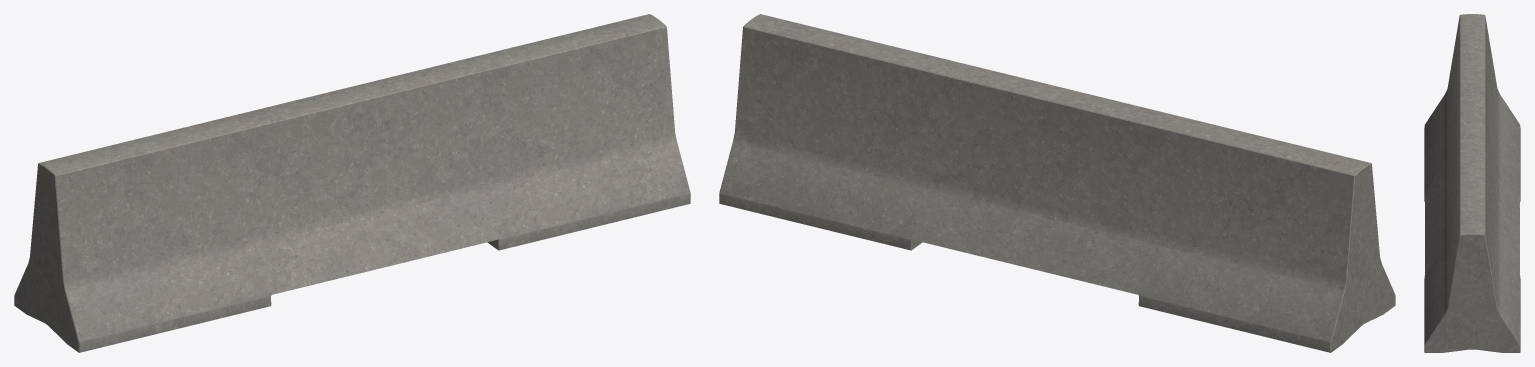
The model's file is Barrier_04.fbx.
3 views of the same model, side by side, from view 1: azimuth 30°, elevation 25°; view 2: azimuth 150°, elevation 25°; view 3: azimuth 270°, elevation 25° (orthographic). The views are drawn at different scales.
Visible parts, largest first — view 1: Concrete-Barrier; view 2: Concrete-Barrier; view 3: Concrete-Barrier.
Boxes of the visible parts, bbox=[...] form: Concrete-Barrier: bbox=[14, 14, 690, 352]; Concrete-Barrier: bbox=[719, 14, 1395, 352]; Concrete-Barrier: bbox=[1424, 14, 1520, 352].
Size of the model in its own units: 288 by 72.6 by 53.19.
1 material, 1 textured.
